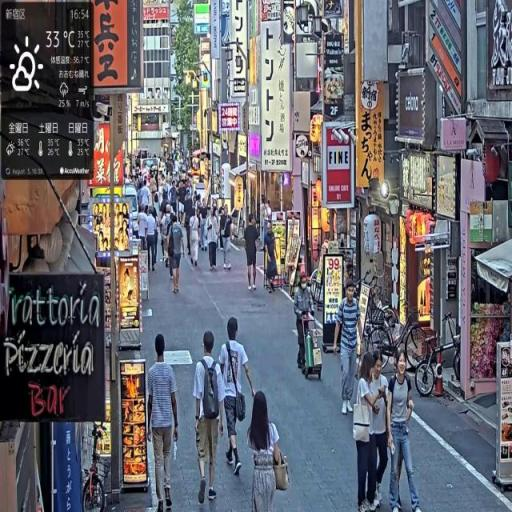person: (146, 331, 181, 512), (387, 350, 423, 512), (193, 322, 224, 509), (248, 390, 292, 512), (218, 319, 252, 476), (354, 351, 387, 512), (333, 278, 365, 419), (166, 211, 187, 296), (264, 219, 280, 295), (245, 214, 260, 292), (221, 205, 235, 272), (206, 208, 220, 275), (189, 209, 201, 271)
